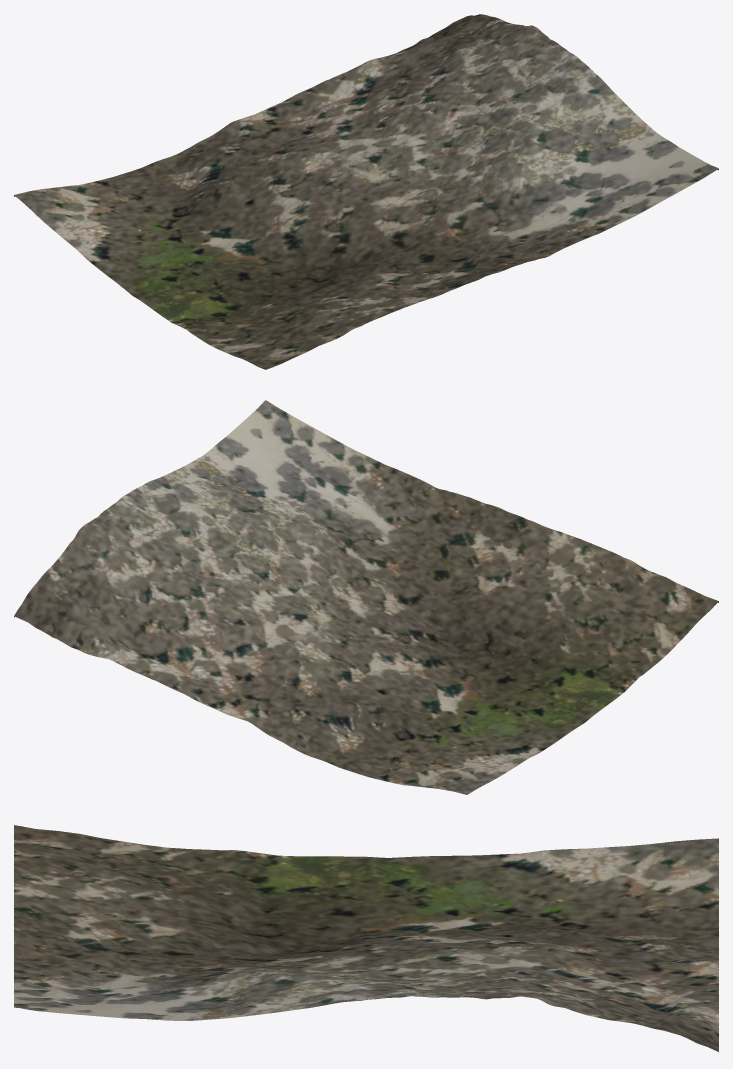
3 renders of one model, top to bottom at view 1: azimuth 30°, elevation 25°; view 2: azimuth 150°, elevation 25°; view 3: azimuth 270°, elevation 25°, orthographic. The views are drawn at different scales.
Size of the model in its own units: 250 by 65.45 by 241.
Materials: 1 (1 with a texture image).
